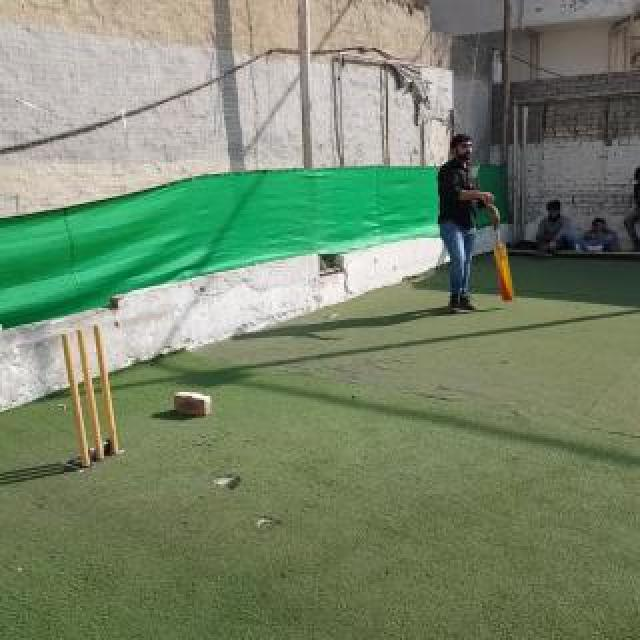bat: (493, 219, 515, 301)
